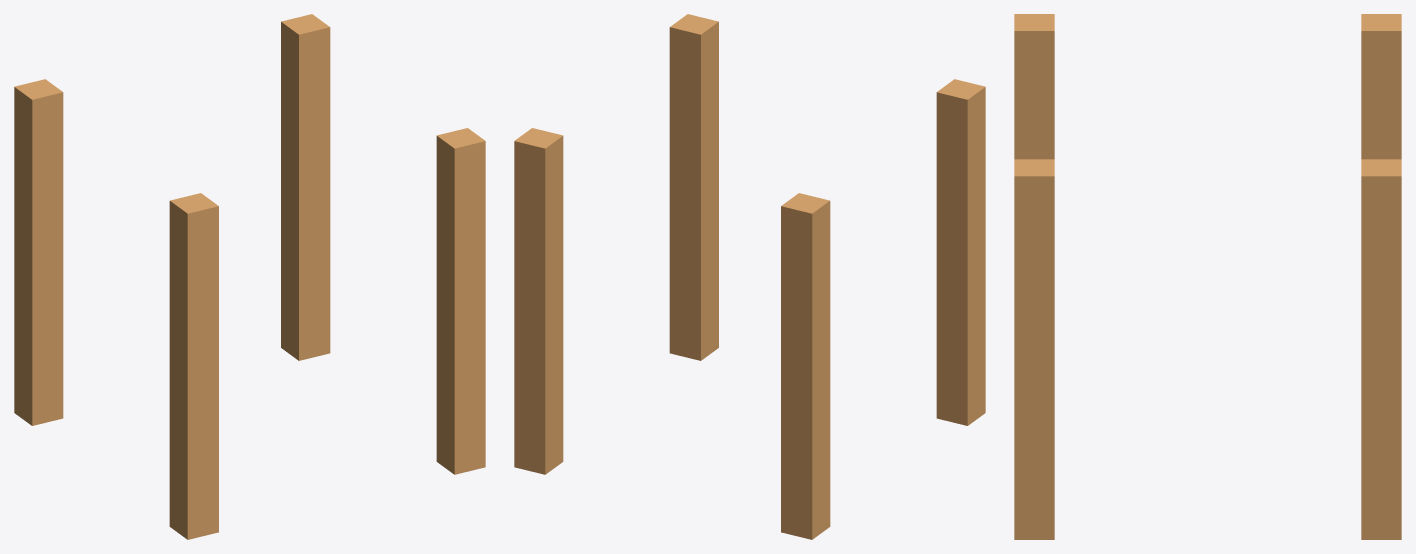
The picture shows the model from 3 angles, left to right: view 1: azimuth 30°, elevation 25°; view 2: azimuth 150°, elevation 25°; view 3: azimuth 270°, elevation 25°; orthographic projection. The views are drawn at different scales.
Visible parts, largest first — view 1: Column-1.005, Column-1.006, Column-1.004, Column-1.007; view 2: Column-1.004, Column-1.007, Column-1.005, Column-1.006; view 3: Column-1.006, Column-1.007, Column-1.004, Column-1.005.
Boxes of the visible parts, <box> form: Column-1.005: <box>169,193,218,539</box>; Column-1.006: <box>281,14,330,360</box>; Column-1.004: <box>14,79,63,425</box>; Column-1.007: <box>436,128,485,474</box>; Column-1.004: <box>781,193,830,539</box>; Column-1.007: <box>669,14,718,360</box>; Column-1.005: <box>936,79,985,425</box>; Column-1.006: <box>514,128,563,474</box>; Column-1.006: <box>1361,159,1401,539</box>; Column-1.007: <box>1014,159,1054,539</box>; Column-1.004: <box>1361,14,1401,159</box>; Column-1.005: <box>1014,14,1054,159</box>.
Size of the model in its own units: 191 by 200 by 193.
